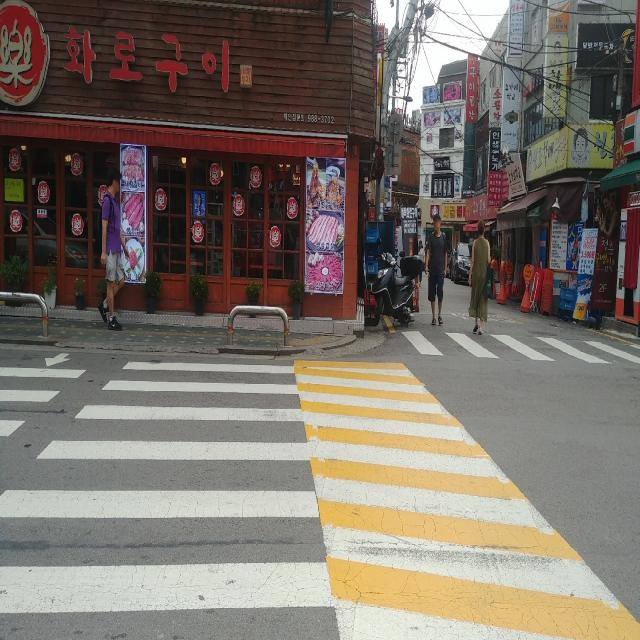횡단보도: (0, 351, 335, 614), (395, 327, 640, 367)
